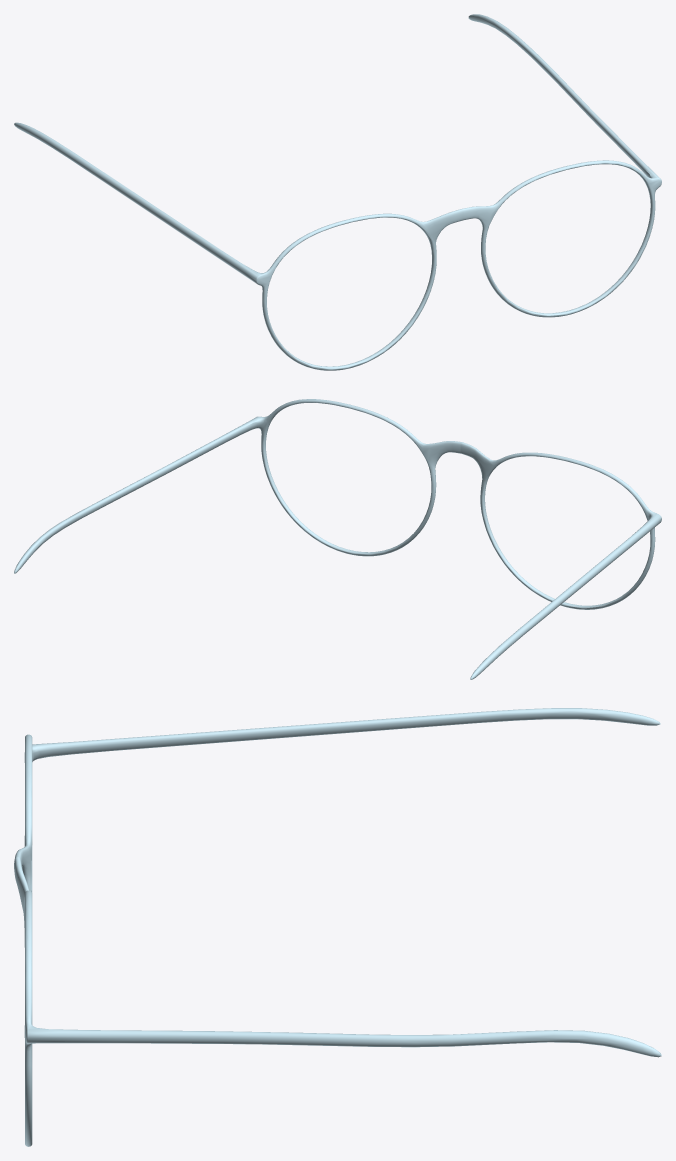
File: eyewear-eyeglasses-2-763b0d31.glb
3 renders of one model, top to bottom at view 1: azimuth 30°, elevation 25°; view 2: azimuth 150°, elevation 25°; view 3: azimuth 270°, elevation 25°, orthographic. The views are drawn at different scales.
Parts seen in each view (by area): view 1: eyeglasses_2.001; view 2: eyeglasses_2.001; view 3: eyeglasses_2.001.
Boxes of the visible parts, left/top/right/bottom form: eyeglasses_2.001: left=14, top=14, right=661, bottom=370; eyeglasses_2.001: left=14, top=399, right=661, bottom=679; eyeglasses_2.001: left=14, top=708, right=661, bottom=1146.
Size of the model in its own units: 1.54 by 0.4749 by 1.28.
